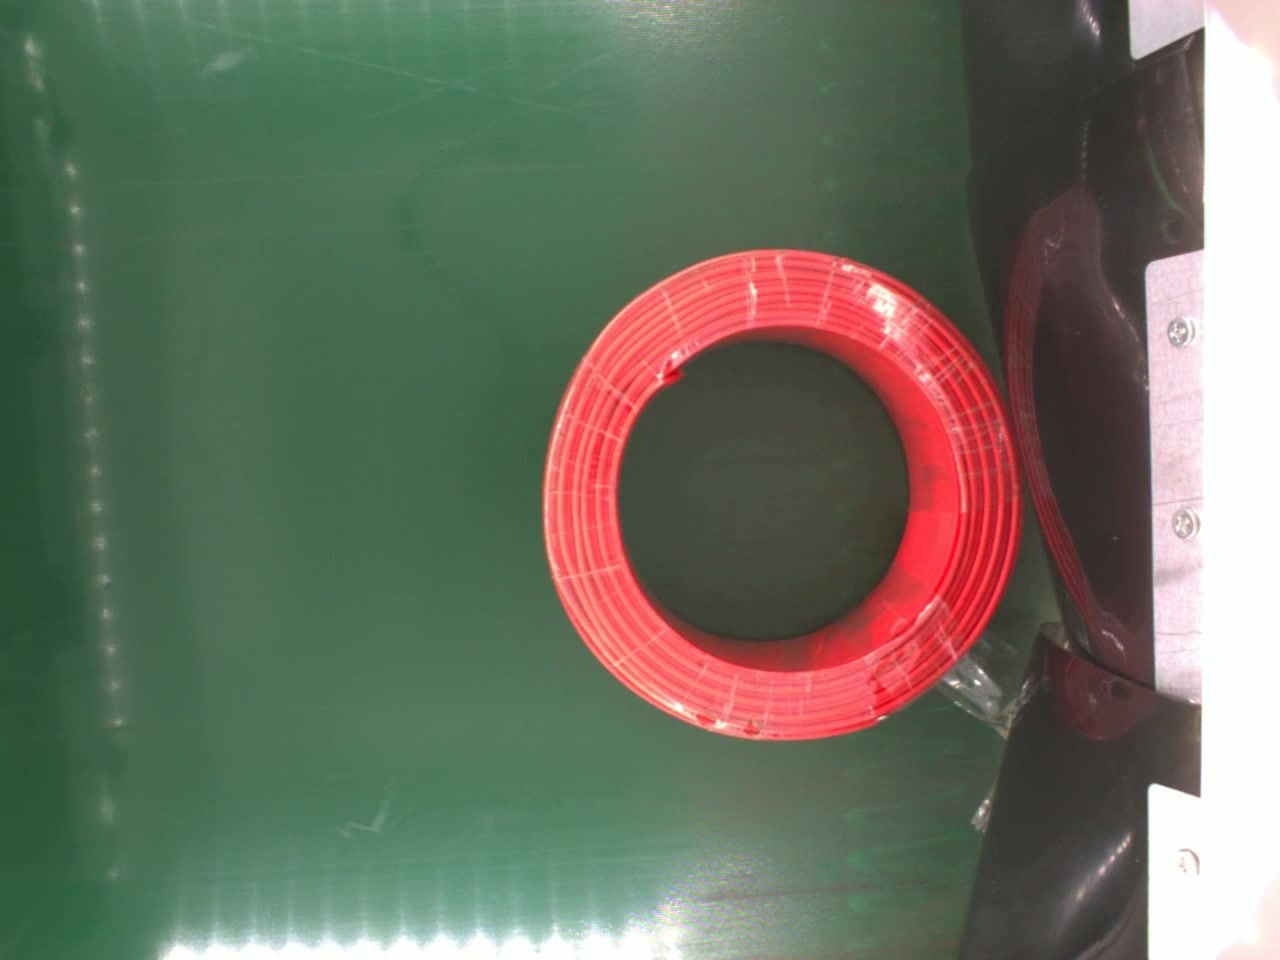red: (538, 246, 1022, 744)
